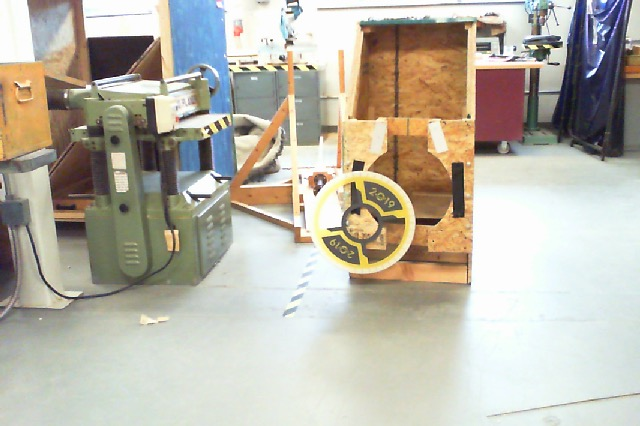Hatch: (307, 171, 417, 274)
Tape: (428, 121, 448, 155), (370, 120, 386, 155)
